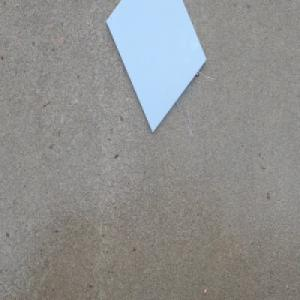PaintChip: (104, 0, 207, 134)
